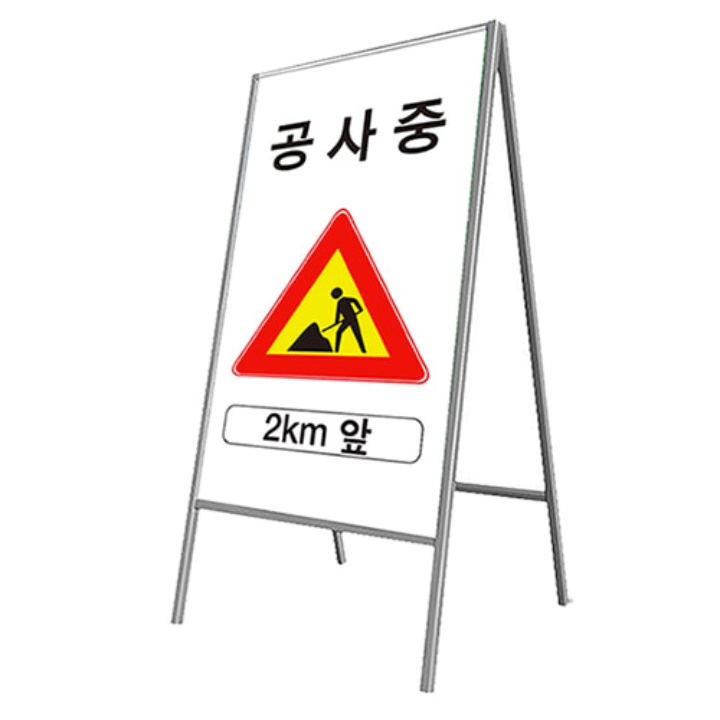const: (272, 267, 390, 369)
